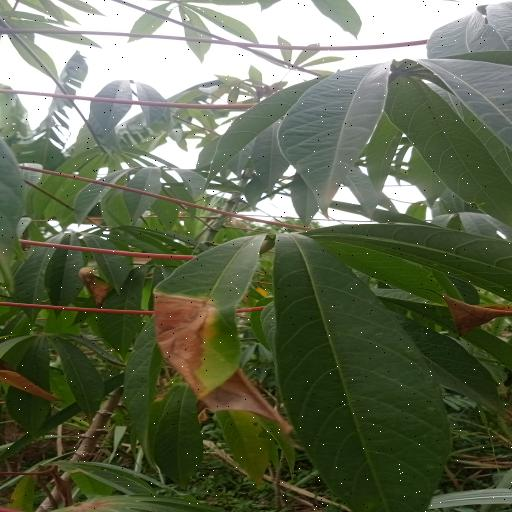Cassava_Root_Rot: (147, 212, 512, 502)
